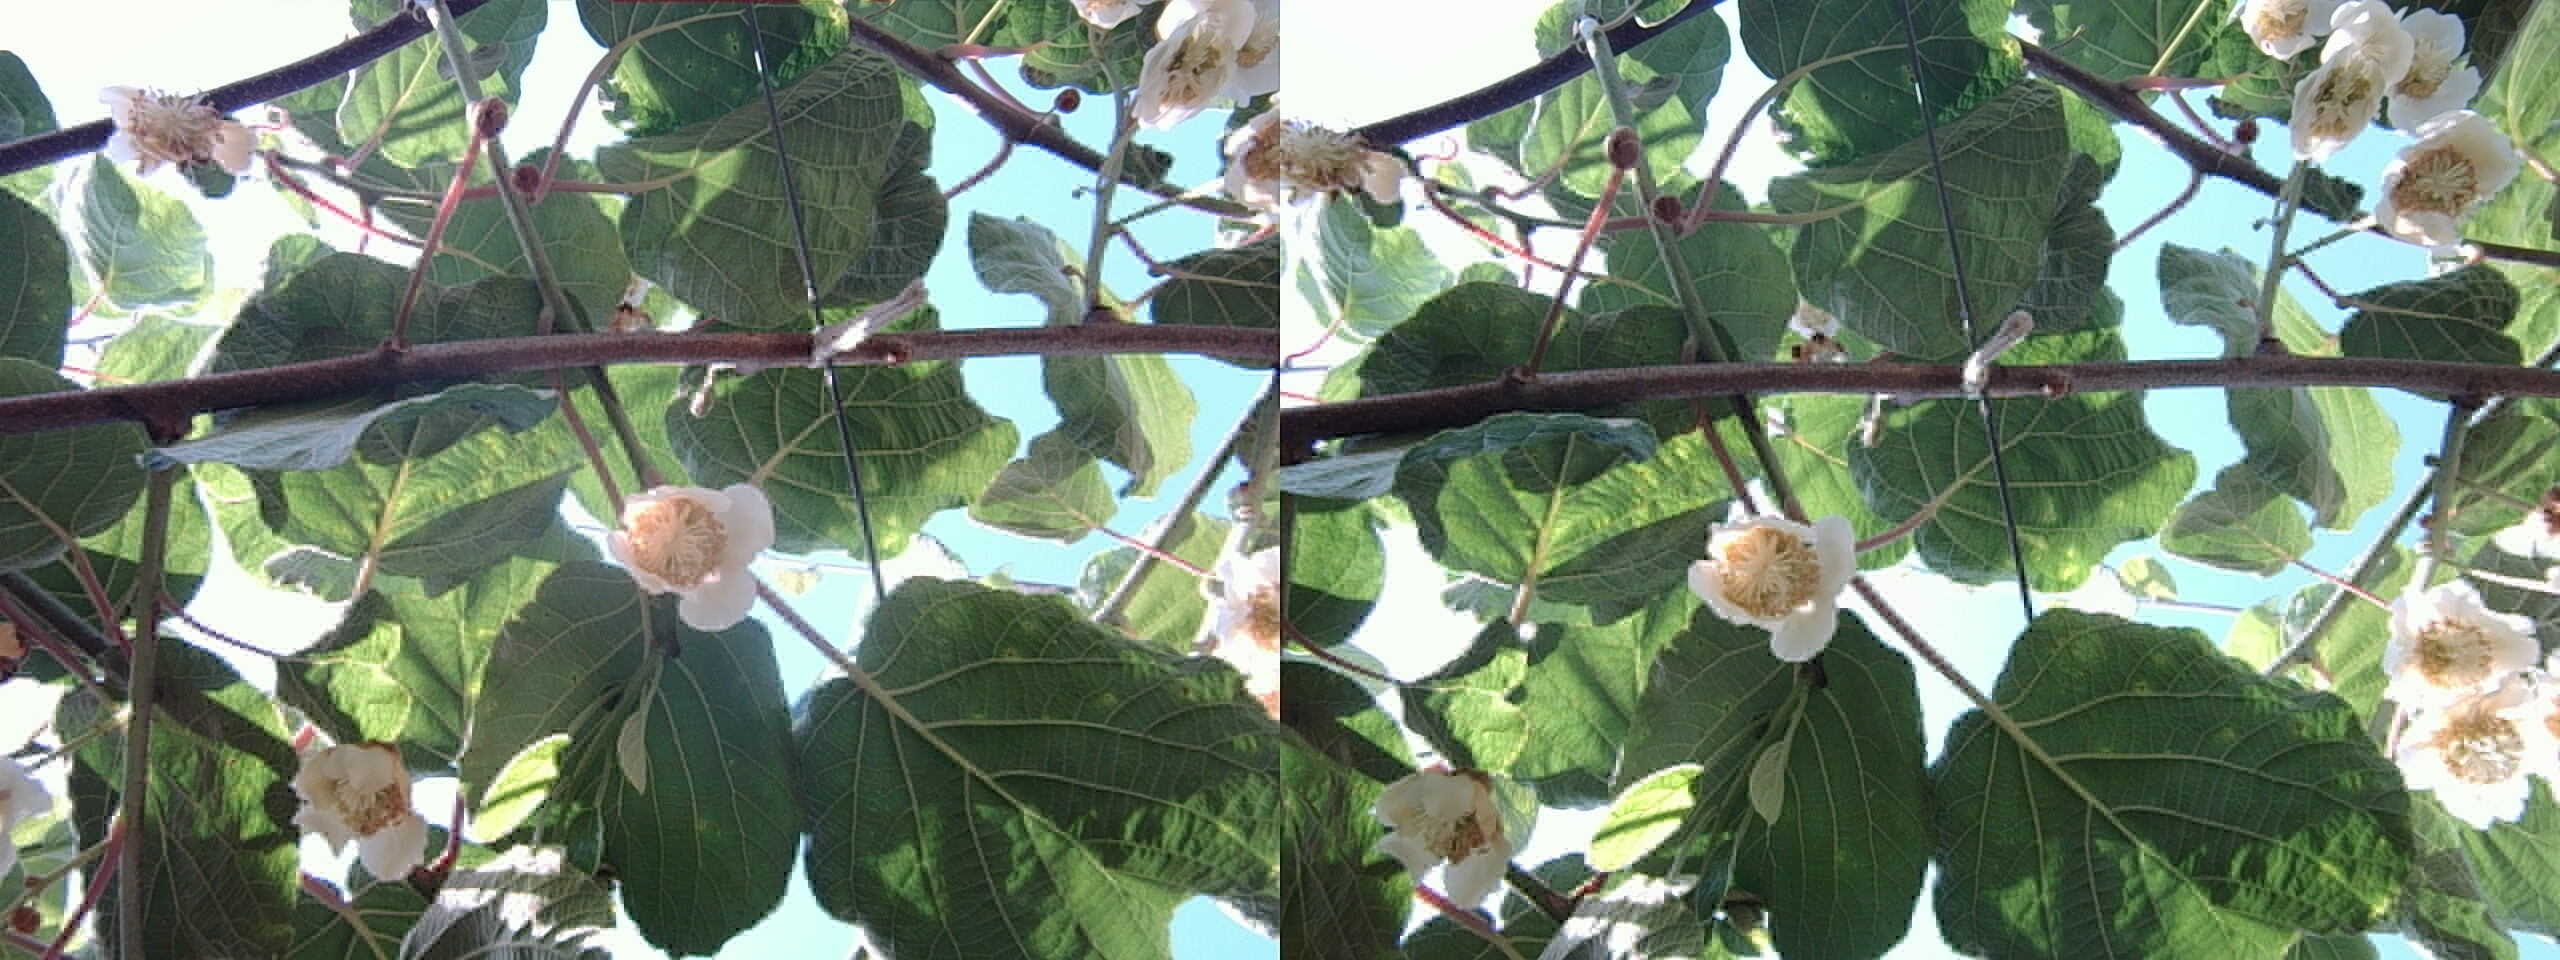flower: (2377, 588, 2553, 818), (282, 730, 442, 895), (1695, 501, 1851, 655), (606, 473, 766, 617), (1365, 762, 1517, 901), (2310, 7, 2456, 139), (1221, 106, 1401, 207), (2374, 113, 2516, 237)
